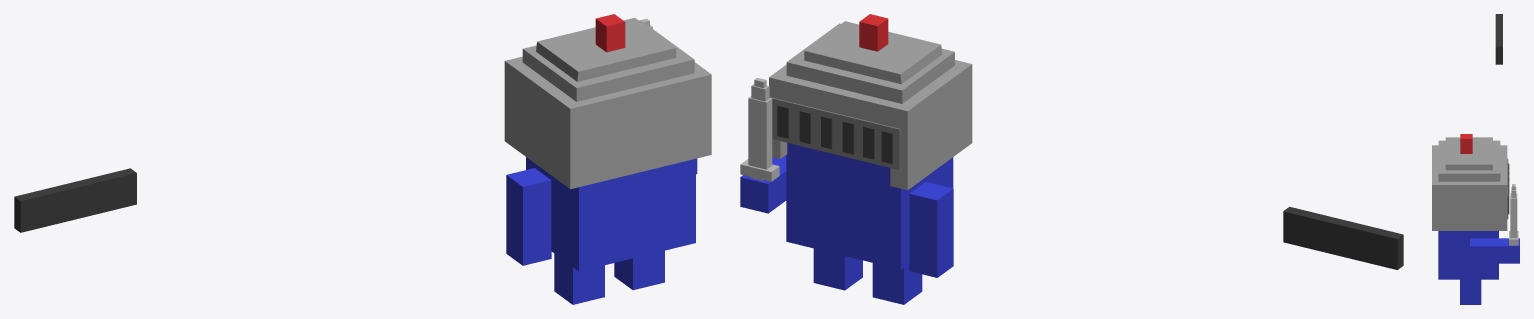
File: Knight.fbx
3 renders of one model, left to right at view 1: azimuth 30°, elevation 25°; view 2: azimuth 150°, elevation 25°; view 3: azimuth 270°, elevation 25°, orthographic. The views are drawn at different scales.
Parts seen in each view (by area): view 1: Cube.006, Cube, Cube.055, Cube.002, Cube.004, Cube.005; view 2: Cube.006, Cube, Cube.055, Cube.003, Cube.002, Cube.004, Cube.005; view 3: Cube.006, Cube, Cube.003, Cube.005, Cube.055.
Boxes of the visible parts, x1=… form: Cube.006: x1=504, y1=14, x2=711, y2=189; Cube: x1=526, y1=157, x2=695, y2=271; Cube.055: x1=14, y1=168, x2=136, y2=232; Cube.002: x1=506, y1=168, x2=551, y2=265; Cube.004: x1=554, y1=253, x2=604, y2=304; Cube.005: x1=614, y1=250, x2=664, y2=290; Cube.006: x1=769, y1=14, x2=972, y2=190; Cube: x1=786, y1=156, x2=953, y2=269; Cube.055: x1=1283, y1=206, x2=1403, y2=269; Cube.003: x1=740, y1=77, x2=786, y2=213; Cube.002: x1=909, y1=182, x2=953, y2=277; Cube.004: x1=872, y1=263, x2=922, y2=304; Cube.005: x1=813, y1=248, x2=862, y2=290; Cube.006: x1=1432, y1=134, x2=1509, y2=230; Cube: x1=1438, y1=231, x2=1498, y2=279; Cube.003: x1=1470, y1=184, x2=1519, y2=263; Cube.005: x1=1460, y1=279, x2=1481, y2=304; Cube.055: x1=1495, y1=14, x2=1502, y2=64.
Size of the model in its own units: 992 by 391 by 200.
